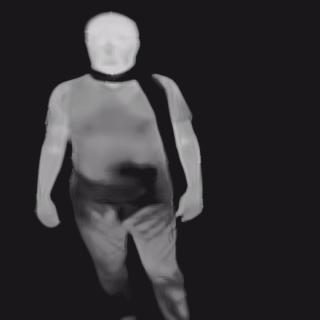Gun: (116, 165, 159, 210)
